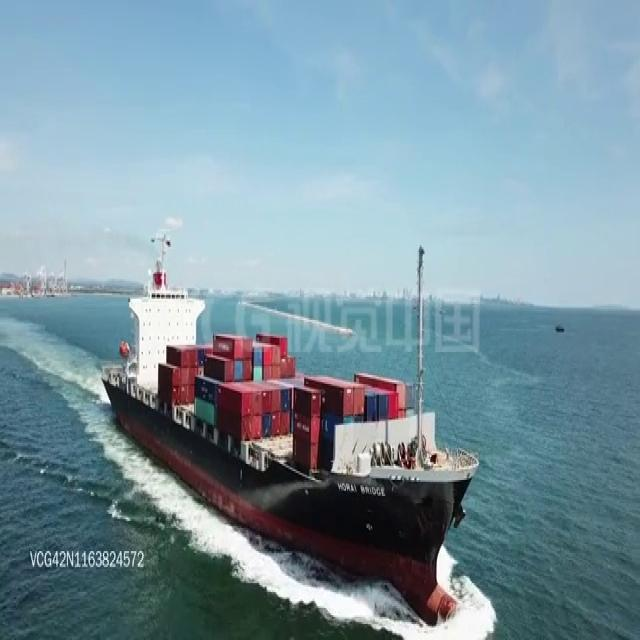cargoship: (104, 228, 482, 615)
